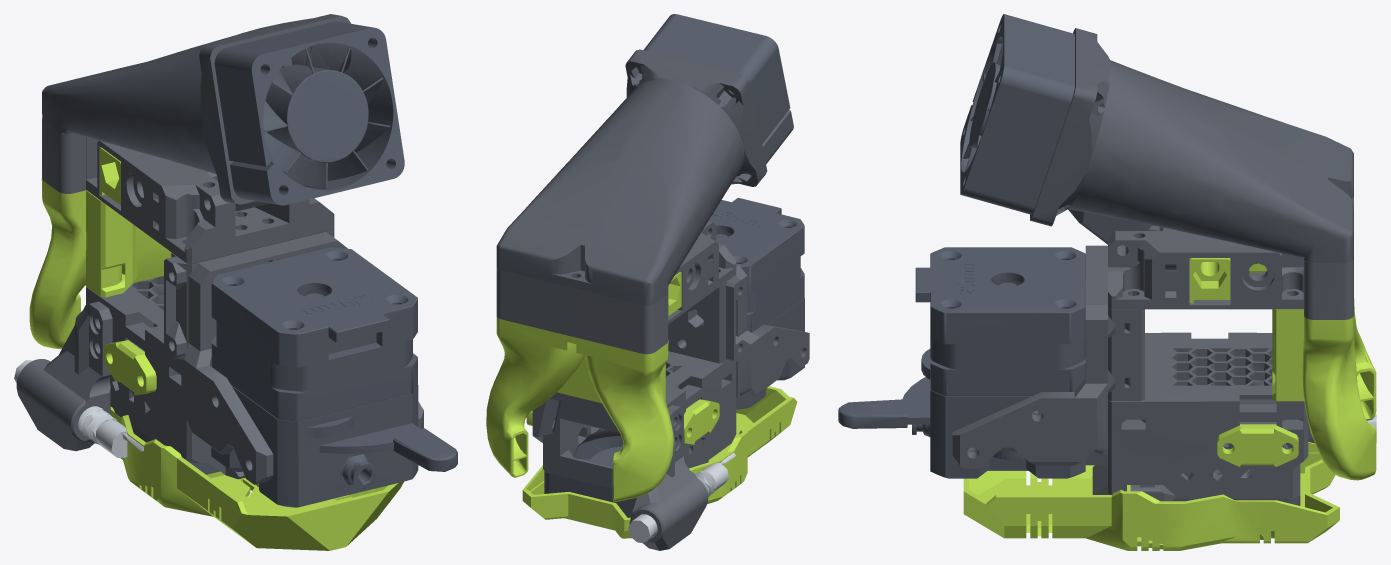
3 renders of one model, left to right at view 1: azimuth 30°, elevation 25°; view 2: azimuth 150°, elevation 25°; view 3: azimuth 270°, elevation 25°, orthographic. The views are drawn at different scales.
Parts seen in each view (by area): view 1: eva3_fan_31, eva3_duct_27, eva3_extruder_147, eva3_core_54, eva3_extruder_134, eva3_accent_0, eva3_accent_2, eva3_core_126, eva3_core_9, eva3_core_41, eva3_extruder_150, eva3_extruder_144 (+4 smaller); view 2: eva3_duct_27, eva3_accent_2, eva3_core_54, eva3_fan_31, eva3_accent_0, eva3_core_9, eva3_extruder_147, eva3_core_41, eva3_core_117, eva3_core_126, eva3_core_76, eva3_fan_82 (+6 smaller); view 3: eva3_duct_27, eva3_core_9, eva3_accent_0, eva3_fan_31, eva3_extruder_147, eva3_core_54, eva3_accent_2, eva3_core_126, eva3_extruder_134, eva3_extruder_150, eva3_extruder_144, eva3_core_117 (+3 smaller).
Boxes of the visible parts, x1,y1,x2,y2 form: eva3_fan_31: (214, 21, 404, 205); eva3_duct_27: (42, 14, 350, 211); eva3_extruder_147: (211, 247, 417, 367); eva3_core_54: (42, 118, 334, 264); eva3_extruder_134: (223, 385, 457, 507); eva3_accent_0: (110, 406, 403, 550); eva3_accent_2: (29, 179, 171, 349); eva3_core_126: (184, 232, 423, 484); eva3_core_9: (86, 276, 245, 479); eva3_core_41: (16, 301, 112, 451); eva3_extruder_150: (211, 335, 417, 421); eva3_extruder_144: (216, 320, 412, 391); eva3_duct_27: (496, 49, 767, 305); eva3_accent_2: (486, 317, 673, 502); eva3_core_54: (496, 221, 736, 354); eva3_fan_31: (643, 14, 793, 164); eva3_accent_0: (522, 386, 797, 538); eva3_core_9: (532, 351, 736, 468); eva3_extruder_147: (708, 197, 804, 293); eva3_core_41: (629, 405, 708, 550); eva3_core_117: (668, 275, 744, 363); eva3_core_126: (736, 264, 809, 398); eva3_core_76: (543, 386, 678, 488); eva3_fan_82: (544, 435, 708, 517); eva3_duct_27: (1030, 28, 1353, 262); eva3_core_9: (1092, 332, 1308, 494); eva3_accent_0: (963, 442, 1339, 550); eva3_fan_31: (960, 14, 1074, 214); eva3_extruder_147: (915, 247, 1085, 344); eva3_core_54: (1108, 225, 1353, 319); eva3_accent_2: (1272, 299, 1376, 480); eva3_core_126: (952, 245, 1107, 468); eva3_extruder_134: (838, 349, 1048, 478); eva3_extruder_150: (930, 359, 1085, 395); eva3_extruder_144: (930, 338, 1085, 369); eva3_core_117: (1108, 308, 1144, 401).
Bounding box in the file's own units: 0.0677 × 0.1402 × 0.1456.
